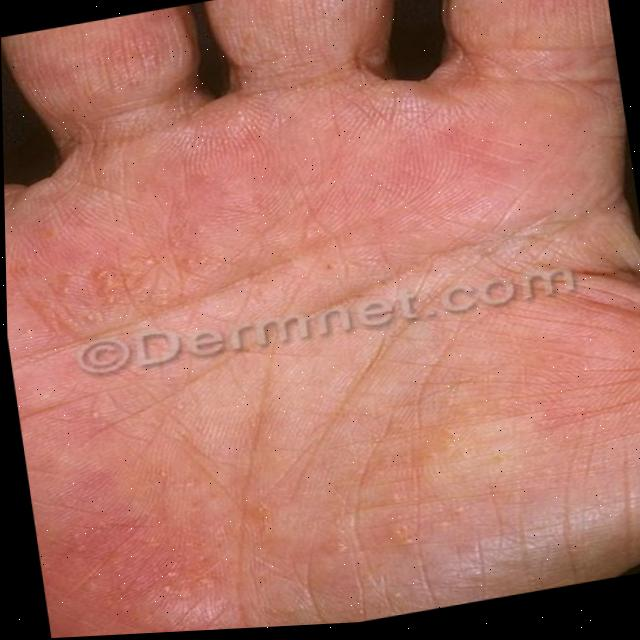Eczema: (2, 86, 477, 270), (29, 460, 203, 639)
